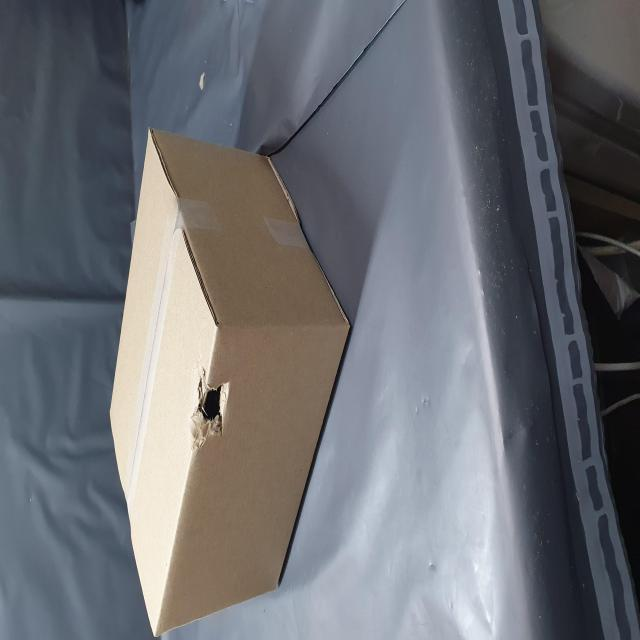damaged: (116, 339, 158, 421)
